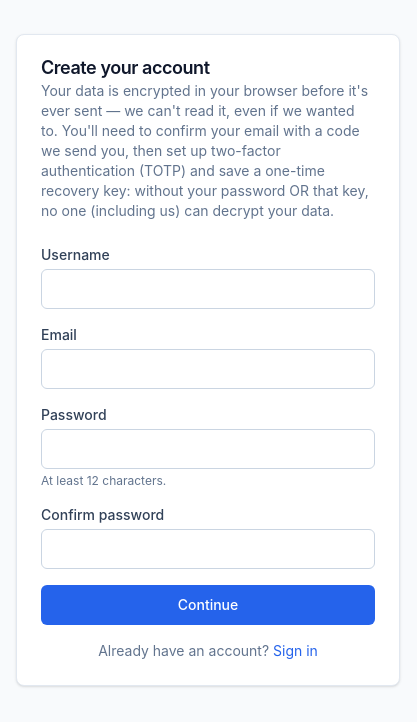
Test: RegisterPage › blocks submission client-side when passwords don't match, without calling the API
Type "newuser" into the field labelled "Username" at (208, 289), box [41, 269, 375, 309]
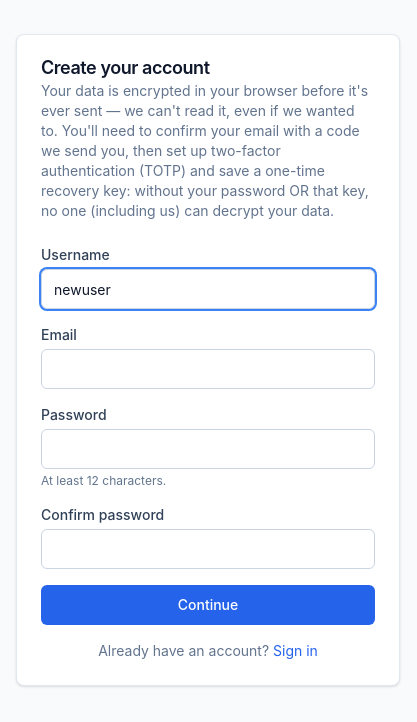
Type "new@example.com" into the field labelled "Email" at (208, 369), box [41, 349, 375, 389]
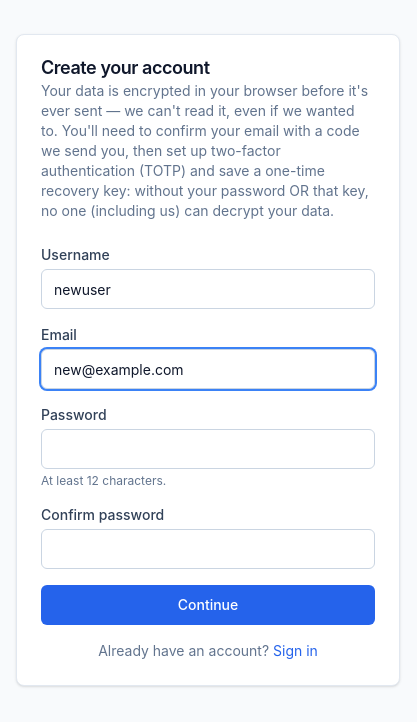
Type "supersecretpassword123" into the password field labelled "Password" at (208, 449), box [41, 429, 375, 469]
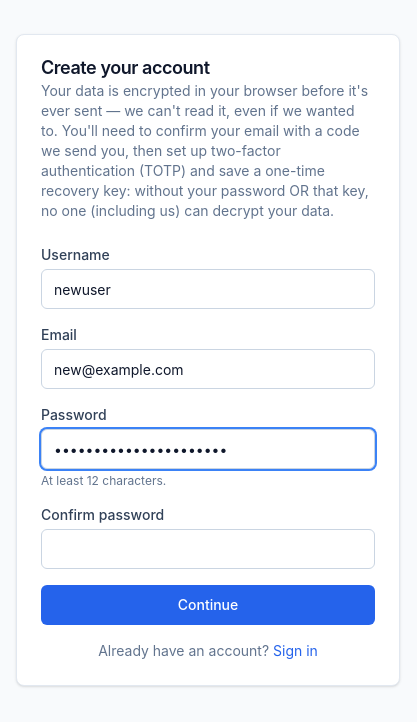
Type "different-password" into the password field labelled "Confirm password" at (208, 549), box [41, 529, 375, 569]
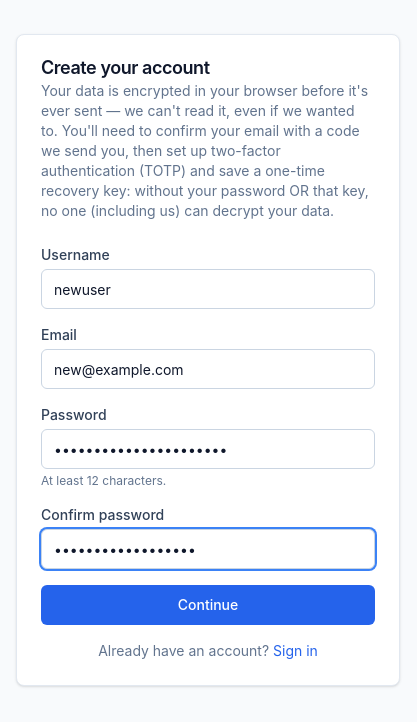
Click the button "Continue" at (208, 605), box [41, 585, 375, 625]
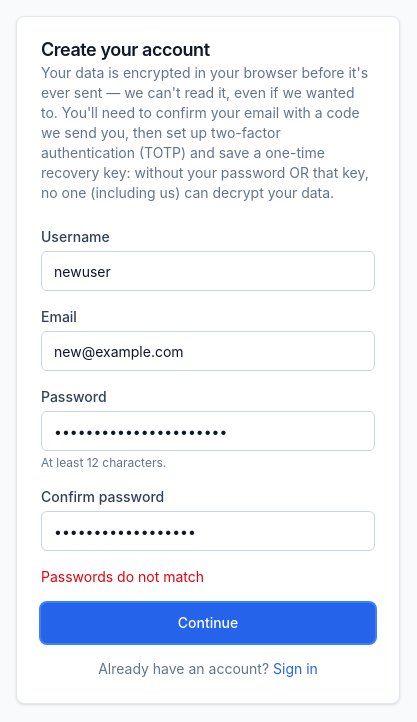
Expected: the text "Passwords do not match" is shown, [41, 568, 204, 585]
